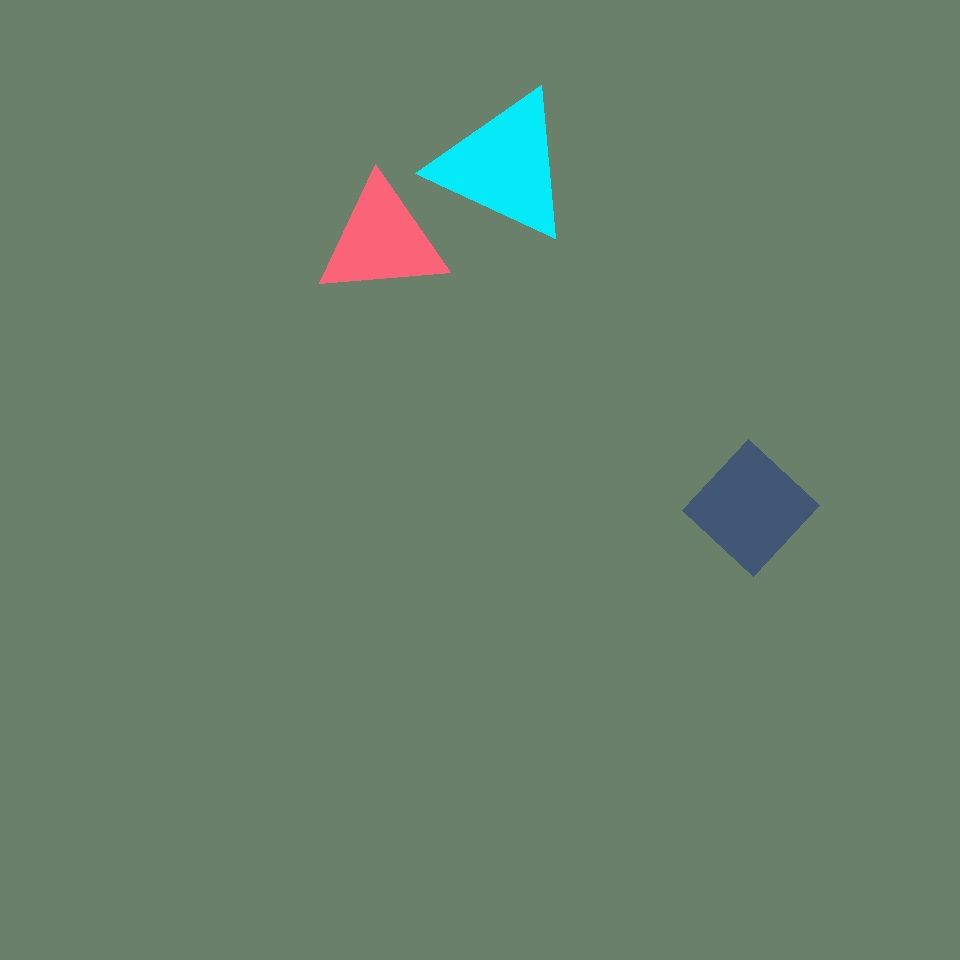circle: (431, 629, 648, 834), (434, 90, 574, 242), (316, 180, 448, 300), (723, 31, 805, 119)
square: (11, 433, 239, 661), (675, 322, 876, 523), (682, 440, 820, 576), (412, 247, 498, 333)
triangle: (412, 197, 790, 575)
